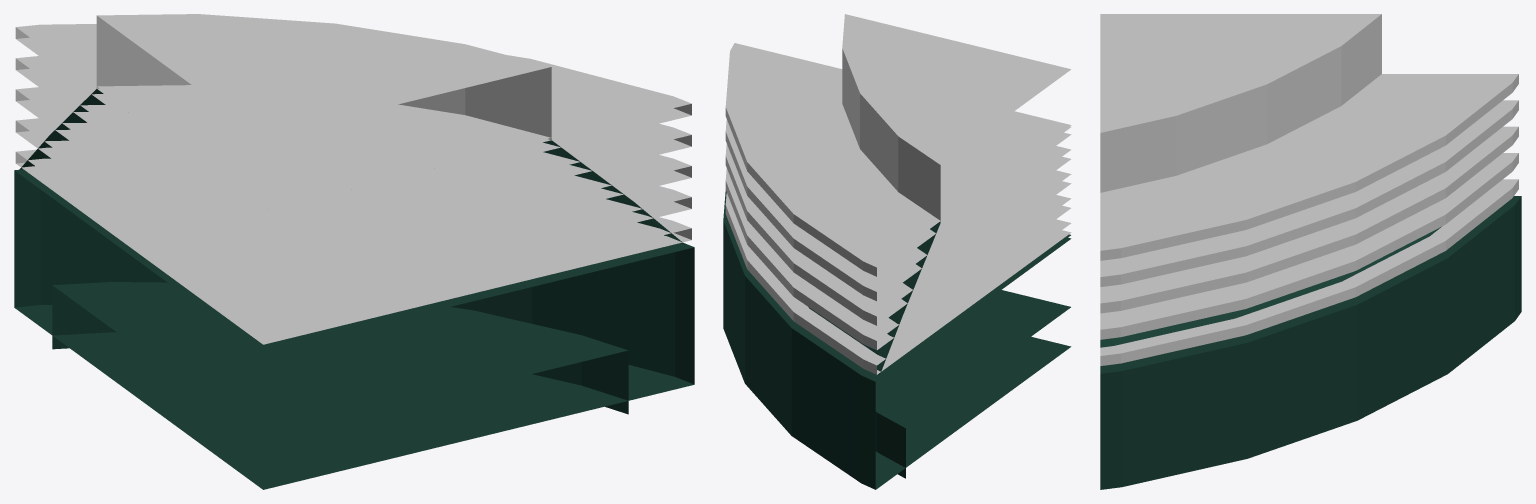
The model's file is cell_233.obj.
3 views of the same model, side by side, from view 1: azimuth 30°, elevation 25°; view 2: azimuth 150°, elevation 25°; view 3: azimuth 270°, elevation 25° (orthographic). The views are drawn at different scales.
Size of the model in its own units: 0.8216 by 0.6667 by 0.8216.
